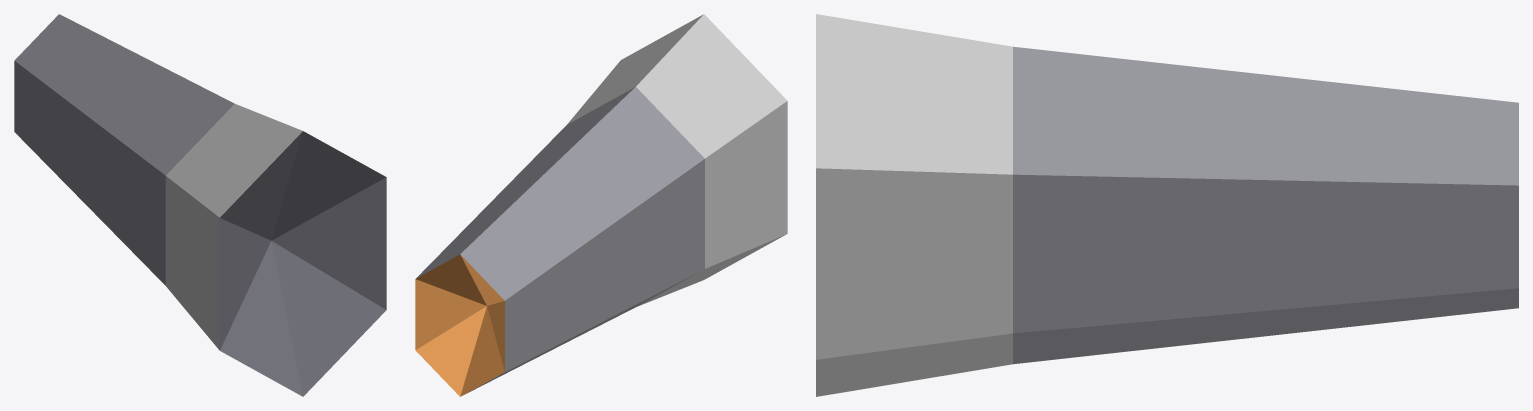
The model's file is engine_fang.obj.
The picture shows the model from 3 angles, left to right: view 1: azimuth 30°, elevation 25°; view 2: azimuth 150°, elevation 25°; view 3: azimuth 270°, elevation 25°; orthographic projection. The views are drawn at different scales.
Visible parts, largest first — view 1: engine_fang; view 2: engine_fang; view 3: engine_fang.
Boxes of the visible parts, box(x1,y1,x2,y2) form: engine_fang: box(14, 14, 386, 396); engine_fang: box(415, 14, 787, 396); engine_fang: box(816, 14, 1518, 396).
Bounding box in the file's own units: 1.42 × 2.16 × 3.6.
